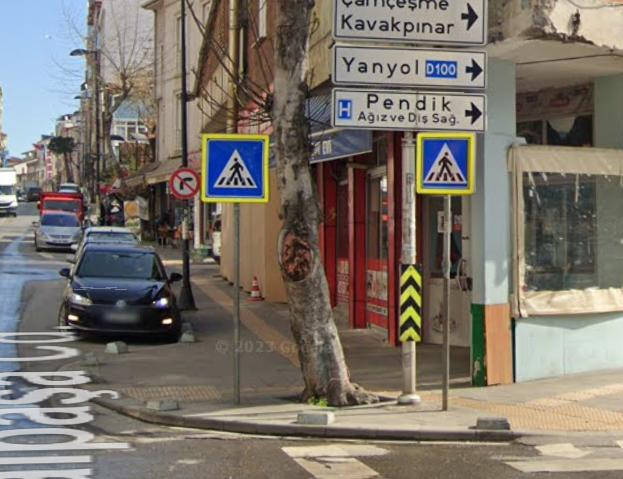rightturnsareforbidden: (170, 172, 202, 198)
